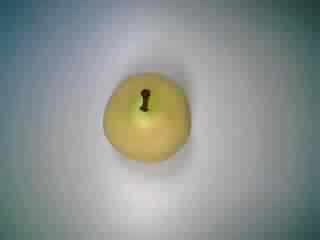pear: (93, 61, 198, 174)
